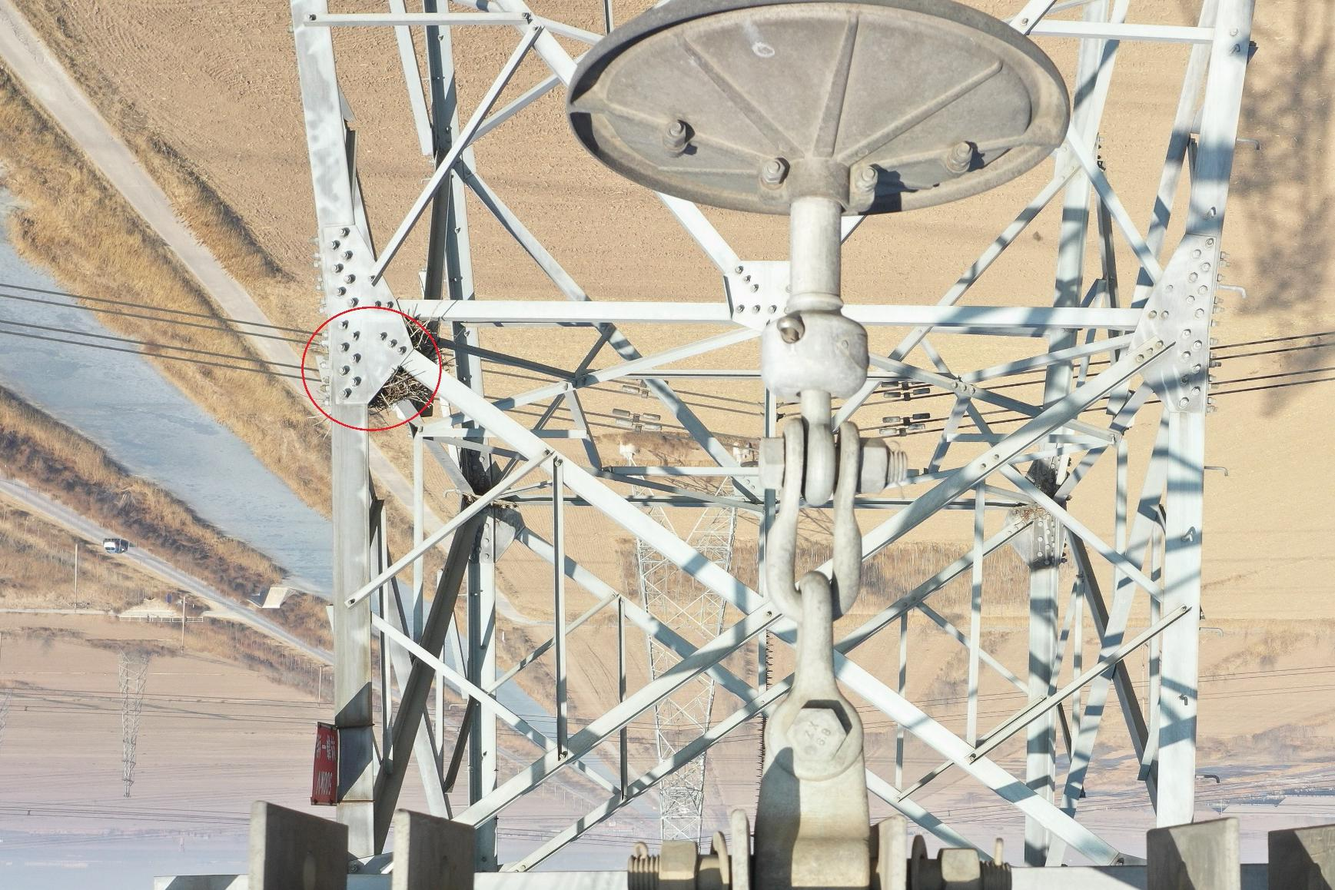nest: (364, 304, 446, 421)
